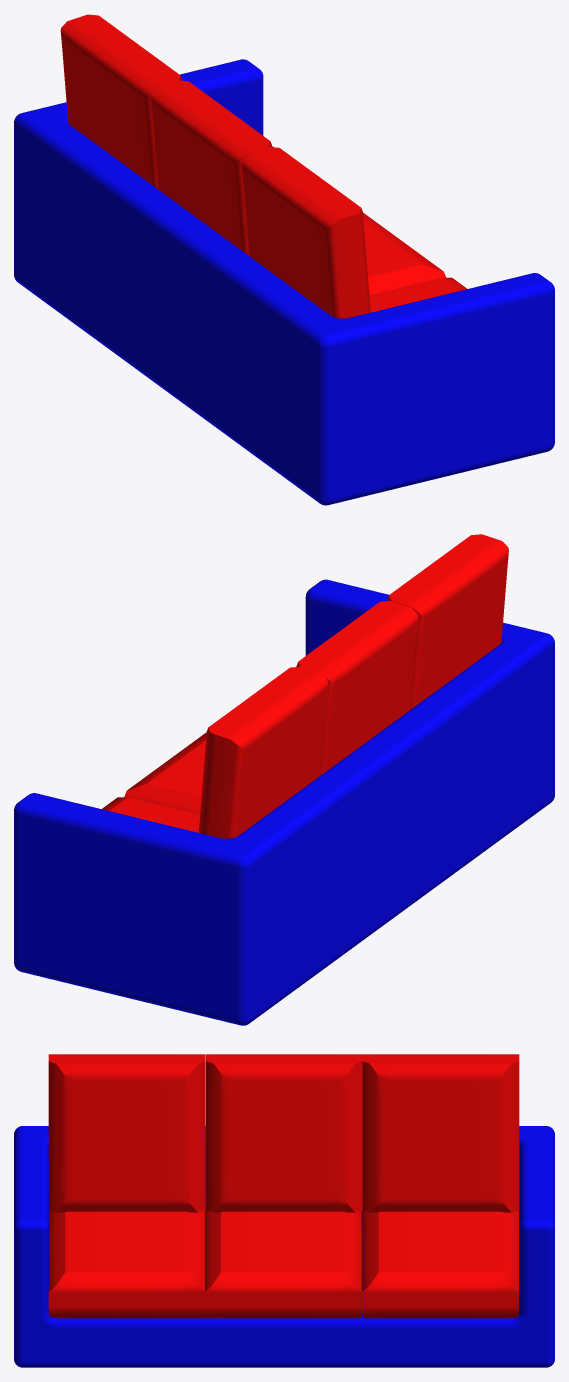
File: Sofa.fbx
3 views of the same model, one above another, from view 1: azimuth 30°, elevation 25°; view 2: azimuth 150°, elevation 25°; view 3: azimuth 270°, elevation 25° (orthographic). The views are drawn at different scales.
Visible parts, largest first — view 1: pCube43, pasted__pCube7, pasted__pCube29, pasted__pCube28, pasted__pCube2, pasted__pCube4; view 2: pCube43, pasted__pCube28, pasted__pCube7, pasted__pCube29, pasted__pCube2, pasted__pCube3; view 3: pCube43, pasted__pCube28, pasted__pCube7, pasted__pCube29, pasted__pCube2, pasted__pCube3, pasted__pCube4.
Boxes of the visible parts, x1=… form: pCube43: x1=14, y1=59, x2=554, y2=505; pasted__pCube7: x1=241, y1=147, x2=370, y2=318; pasted__pCube29: x1=150, y1=80, x2=271, y2=255; pasted__pCube28: x1=60, y1=14, x2=181, y2=188; pasted__pCube2: x1=363, y1=212, x2=445, y2=295; pasted__pCube4: x1=369, y1=277, x2=466, y2=312; pCube43: x1=14, y1=579, x2=554, y2=1025; pasted__pCube28: x1=198, y1=666, x2=327, y2=838; pasted__pCube7: x1=387, y1=534, x2=508, y2=709; pasted__pCube29: x1=296, y1=600, x2=417, y2=775; pasted__pCube2: x1=124, y1=732, x2=206, y2=814; pasted__pCube3: x1=101, y1=797, x2=199, y2=832; pCube43: x1=14, y1=1126, x2=554, y2=1367; pasted__pCube28: x1=362, y1=1054, x2=519, y2=1212; pasted__pCube7: x1=48, y1=1054, x2=205, y2=1212; pasted__pCube29: x1=206, y1=1054, x2=362, y2=1212; pasted__pCube2: x1=204, y1=1207, x2=361, y2=1318; pasted__pCube3: x1=362, y1=1210, x2=518, y2=1318; pasted__pCube4: x1=48, y1=1210, x2=205, y2=1318.
Size of the model in its own units: 1.97 by 2.15 by 4.51.
